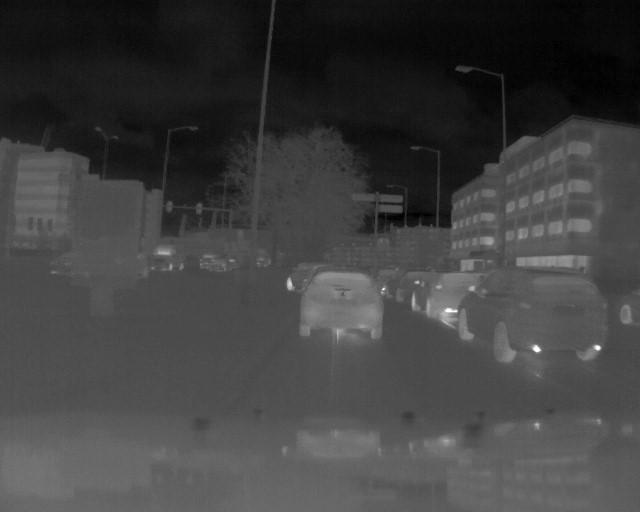car: (452, 265, 612, 362), (295, 271, 393, 342), (149, 241, 186, 273)
